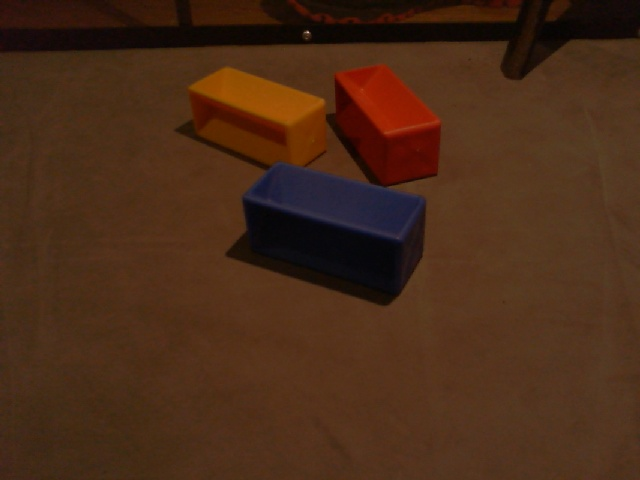BlueSample: (243, 161, 428, 296)
RedSample: (332, 61, 447, 187)
YellowSample: (184, 65, 327, 177)
